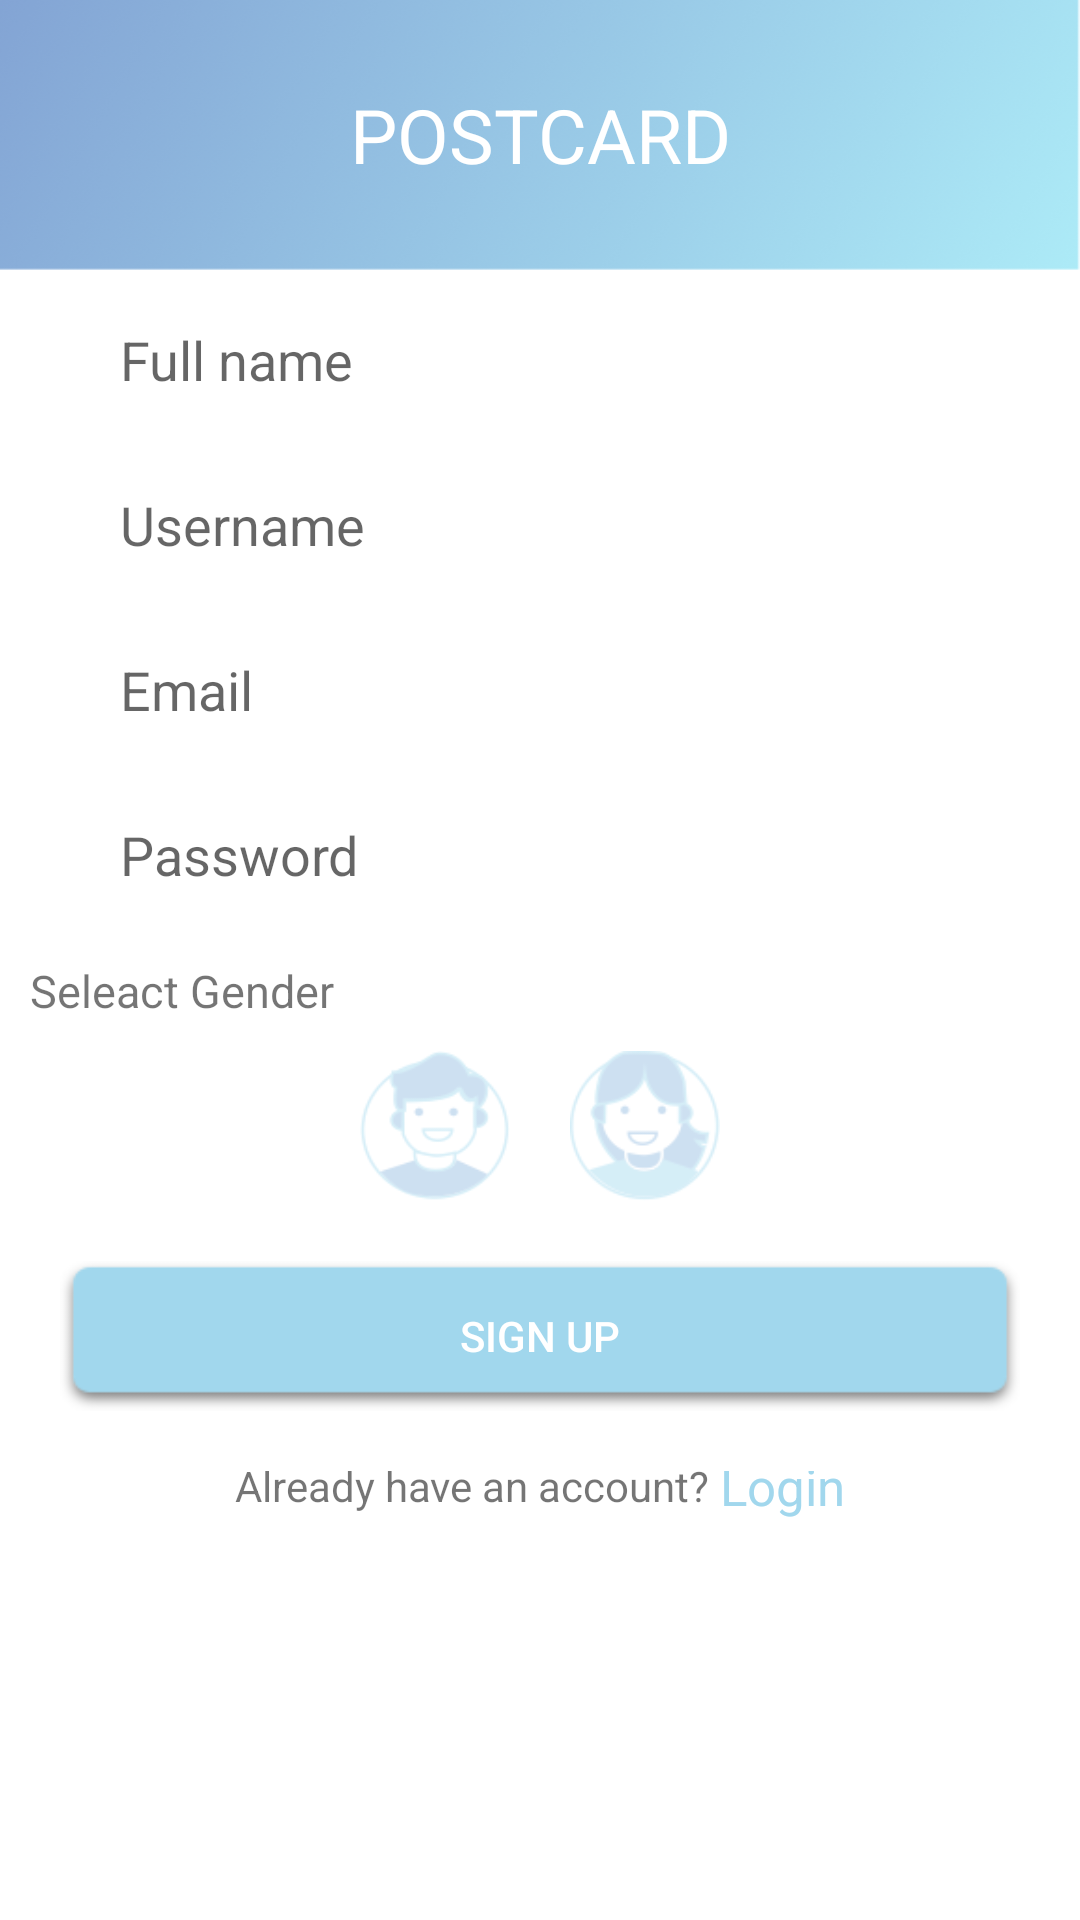

Screen size 1080px×1920px. Icon name, then its box in pixels as [left=x1, top=y1, right=x2, bottom=y2]:
female: [left=570, top=1051, right=718, bottom=1199]
male: [left=362, top=1053, right=508, bottom=1199]
